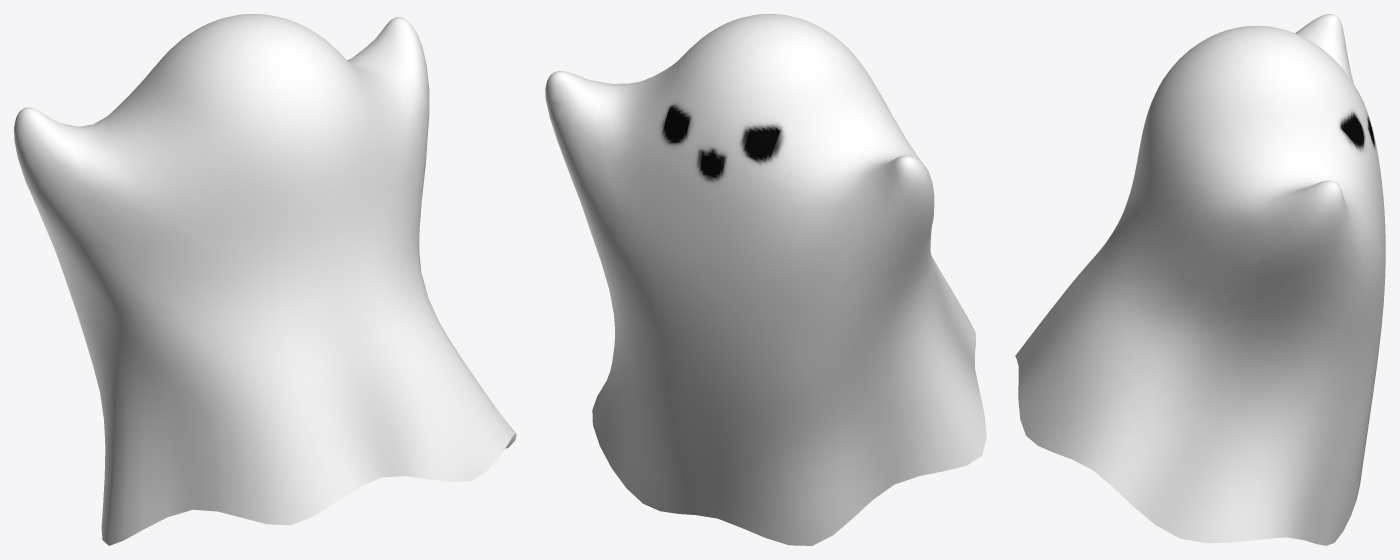
The model's file is ghost2.fbx.
3 renders of one model, left to right at view 1: azimuth 30°, elevation 25°; view 2: azimuth 150°, elevation 25°; view 3: azimuth 270°, elevation 25°, orthographic. The views are drawn at different scales.
Visible parts, largest first — view 1: ghost_fly; view 2: ghost_fly; view 3: ghost_fly.
Boxes of the visible parts, x1,y1,x2,y2 form: ghost_fly: (14,14,516,545); ghost_fly: (545,14,986,545); ghost_fly: (1015,14,1385,545).
Bounding box in the file's own units: 188 × 224 × 161.
